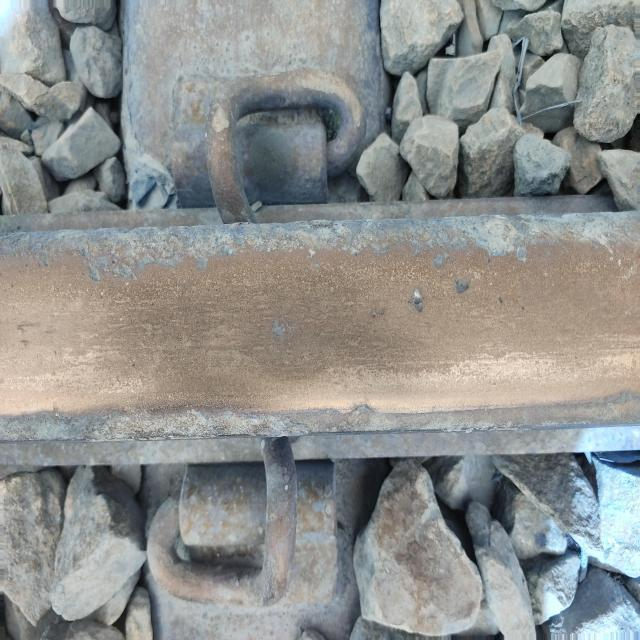broken_rail_medium: (411, 289, 426, 317), (456, 277, 470, 299), (518, 248, 528, 266)
